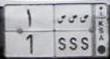1: (26, 9, 34, 54)
S: (68, 14, 78, 51), (57, 15, 67, 51), (80, 14, 89, 51)
